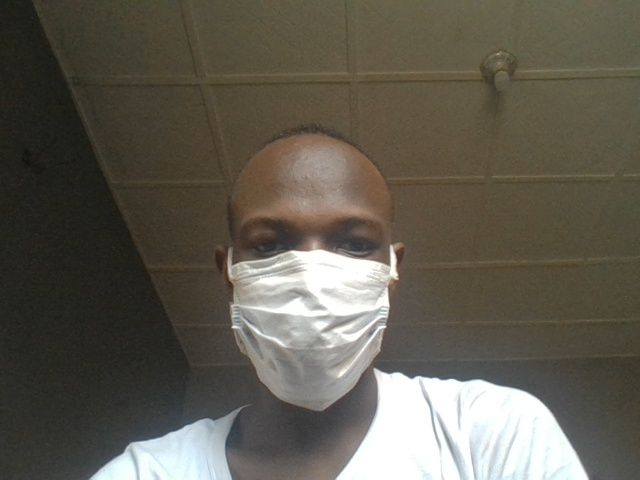Mask: (214, 250, 405, 410)
